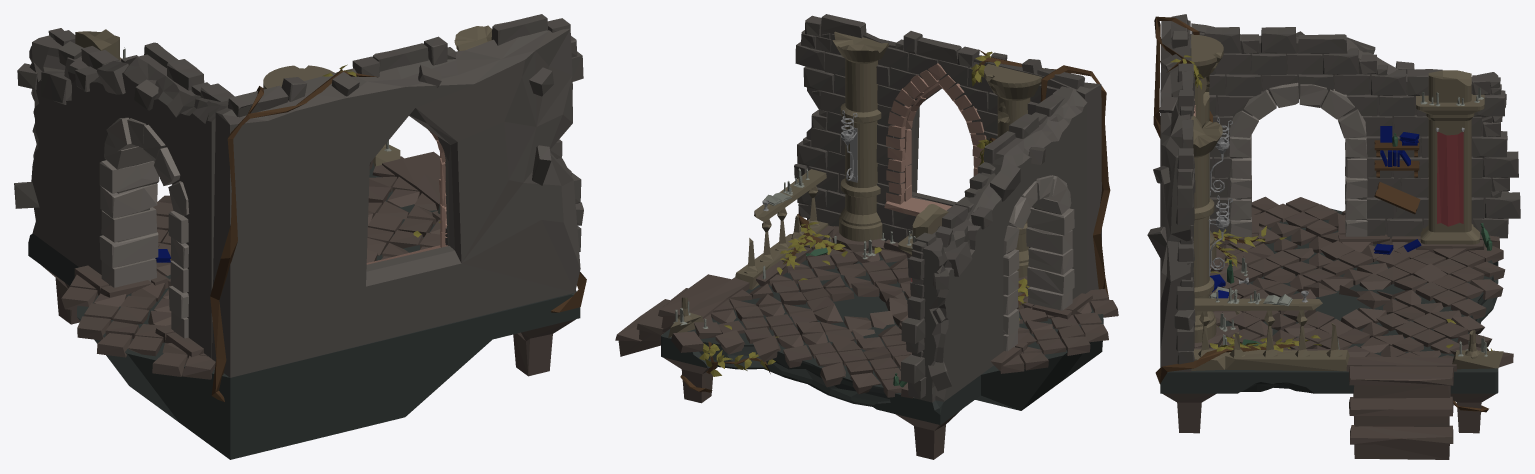
The model's file is Ruins.fbx.
The picture shows the model from 3 angles, left to right: view 1: azimuth 30°, elevation 25°; view 2: azimuth 150°, elevation 25°; view 3: azimuth 270°, elevation 25°; orthographic projection. The views are drawn at different scales.
Visible parts, largest first — view 1: Wall Left, Floor Ground, Wall Right, Floor Bricks, Arch, Wall Left Details, Wall Right Details, Trunk, Floor Perimeter, Pillars.001, Window, Pillar Right (+3 smaller); view 2: Floor Bricks, Wall Right, Wall Left, Floor Ground, Arch, Pillar Left, Wall Left Details, Window, Wall Right Details, Floor Perimeter, Ledge, Trunk (+7 smaller); view 3: Floor Bricks, Wall Right, Stairs, Floor Ground, Arch, Wall Left, Banner Pillar, Ledge, Wall Left Details, Pillar Left, Floor Perimeter, Wall Right Details (+10 smaller).
Boxes of the visible parts, x1,y1,x2,y2 form: Wall Left: [212, 28, 583, 377]; Floor Ground: [28, 163, 580, 459]; Wall Right: [29, 35, 234, 358]; Floor Bricks: [61, 159, 440, 379]; Arch: [99, 117, 189, 338]; Wall Left Details: [228, 14, 583, 225]; Wall Right Details: [14, 28, 209, 208]; Trunk: [210, 69, 586, 401]; Floor Perimeter: [74, 156, 440, 358]; Pillars.001: [41, 265, 575, 376]; Window: [366, 130, 447, 264]; Pillar Right: [263, 65, 334, 89]; Floor Bricks: [671, 237, 1118, 397]; Wall Right: [901, 86, 1087, 402]; Wall Left: [795, 31, 1101, 292]; Floor Ground: [661, 247, 1103, 424]; Arch: [1003, 175, 1074, 351]; Pillar Left: [832, 31, 888, 241]; Wall Left Details: [794, 14, 1084, 218]; Window: [884, 63, 986, 216]; Wall Right Details: [906, 89, 1058, 391]; Floor Perimeter: [689, 225, 1092, 398]; Ledge: [735, 169, 828, 289]; Trunk: [680, 49, 1110, 392]; Floor Bricks: [1209, 196, 1513, 367]; Wall Right: [1191, 23, 1520, 238]; Stairs: [1349, 366, 1453, 459]; Floor Ground: [1160, 208, 1498, 393]; Arch: [1229, 82, 1367, 236]; Wall Left: [1160, 20, 1195, 372]; Banner Pillar: [1416, 70, 1484, 244]; Ledge: [1191, 298, 1349, 371]; Wall Left Details: [1147, 14, 1195, 364]; Pillar Left: [1191, 115, 1222, 342]; Floor Perimeter: [1194, 215, 1499, 371]; Wall Right Details: [1199, 31, 1509, 197].
Bounding box in the file's own units: 14.42 × 9.69 × 11.05.
